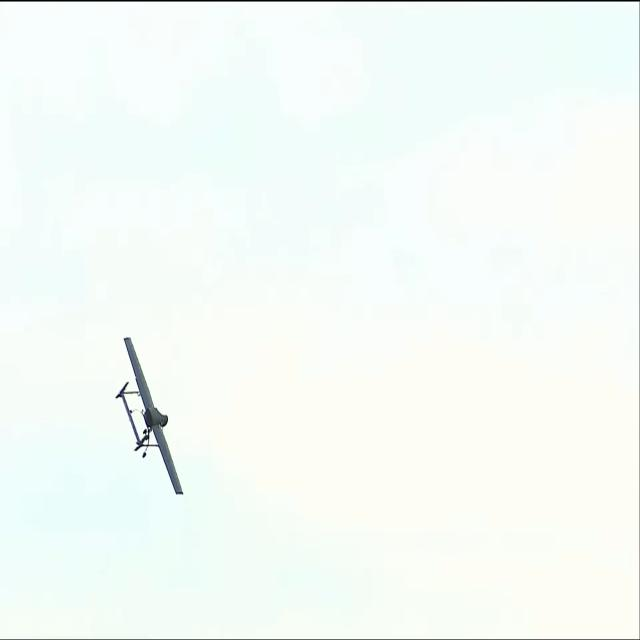iha: (150, 334, 153, 496)
